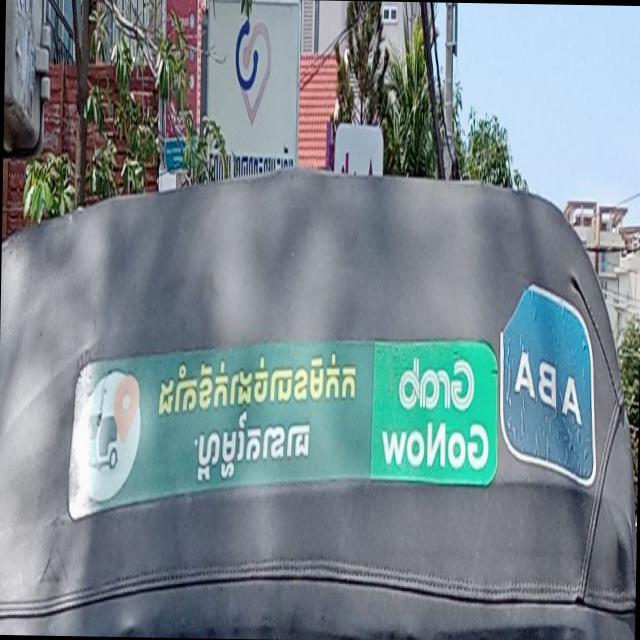Yolov11kh: (146, 336, 364, 417), (162, 407, 338, 503)
